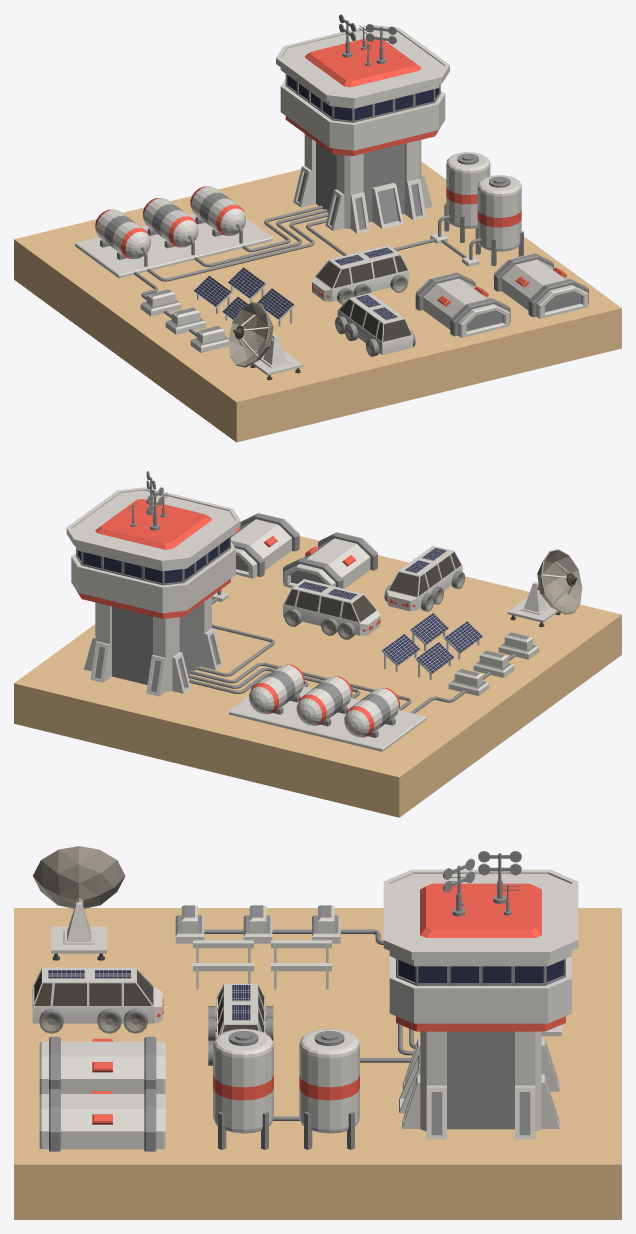
Rendered from 00 Space_20.FBX.
3 renders of one model, top to bottom at view 1: azimuth 30°, elevation 25°; view 2: azimuth 150°, elevation 25°; view 3: azimuth 270°, elevation 25°, orthographic. The views are drawn at different scales.
Parts seen in each view (by area): view 1: Box001, Box002, Sphere003, Cylinder001, Box152, Box015, Box149, Box042, Box006, Line001, Box153, Cylinder020 (+3 smaller); view 2: Box001, Box002, Sphere003, Box149, Box152, Box042, Box006, Box015, Box153, Line001, Box154, Box156 (+3 smaller); view 3: Box001, Box002, Cylinder001, Box042, Box015, Box152, Box006, Box153, Box149, Cylinder020, Box156, Box155 (+3 smaller).
Part boxes in pixels (x1,y1,x2,y2): Box001: (14,161,621,442); Box002: (276,25,449,233); Sphere003: (75,186,272,278); Cylinder001: (430,152,523,266); Box152: (415,272,510,337); Box015: (494,253,588,318); Box149: (312,245,409,304); Box042: (335,293,415,356); Box006: (228,302,303,379); Line001: (147,205,434,281); Box153: (134,271,228,352); Cylinder020: (339,14,396,65); Box001: (14,536,621,817); Box002: (66,487,240,696); Sphere003: (229,664,426,751); Box149: (283,579,380,639); Box152: (283,532,377,588); Box042: (384,545,465,611); Box006: (507,549,582,626); Box015: (231,513,299,578); Box153: (410,632,539,713); Line001: (187,624,411,710); Box154: (415,642,454,680); Box156: (381,633,419,671); Box001: (14,908,621,1219); Box002: (383,869,578,1139); Cylinder001: (213,1028,359,1149); Box042: (32,967,163,1033); Box015: (39,1089,165,1151); Box152: (39,1036,165,1094); Box006: (33,846,125,960); Box153: (175,905,383,944); Box149: (208,984,273,1065); Cylinder020: (443,851,521,916); Box156: (271,963,331,989); Box155: (193,963,253,989).
Size of the model in its own units: 10000 by 5519 by 10000.
